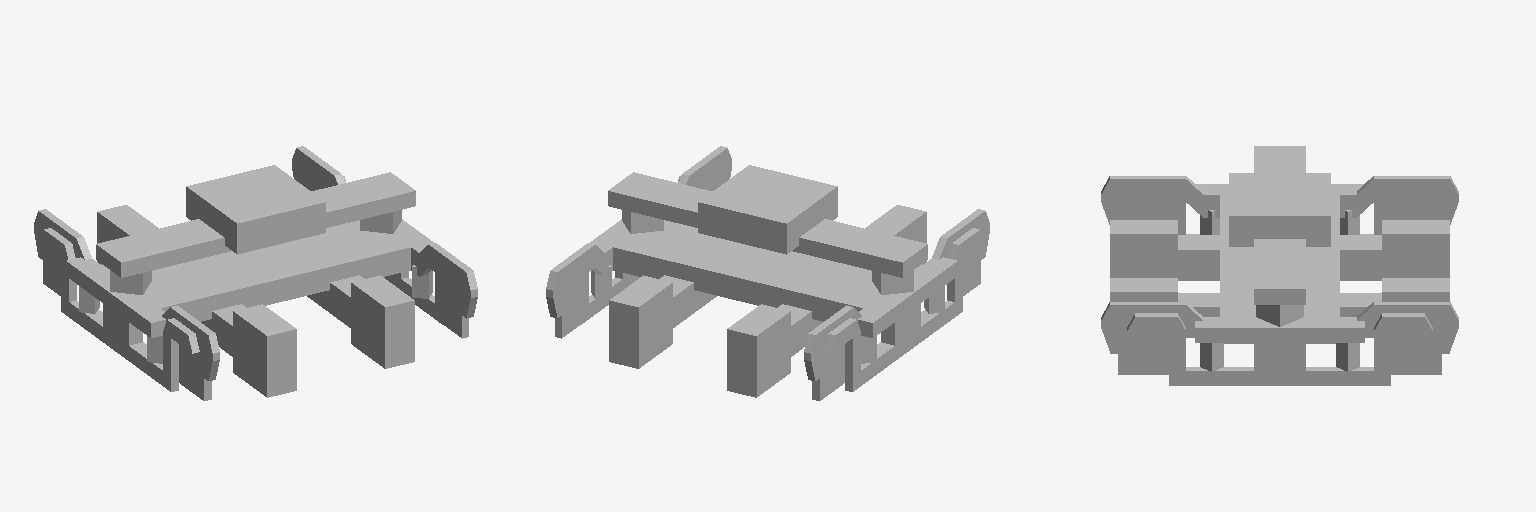
Rendered from passenger_frame.obj.
The picture shows the model from 3 angles: view 1: azimuth 30°, elevation 25°; view 2: azimuth 150°, elevation 25°; view 3: azimuth 270°, elevation 25°; orthographic projection.
Visible parts, largest first — view 1: cube2, cube3, cube1, cube13, cube32, cube11, cube37, cube6, cube9, cube20, cube16, cube23 (+14 smaller); view 2: cube2, cube3, cube1, cube20, cube31, cube11, cube23, cube6, cube16, cube13, cube9, cube37 (+14 smaller); view 3: cube3, cube2, cube1, cube13, cube20, cube14, cube29, cube9, cube16, cube27, cube23, cube37 (+15 smaller).
Boxes of the visible parts, x1,y1,x2,y2 form: cube2: [102, 220, 410, 321]; cube3: [186, 165, 325, 254]; cube1: [96, 172, 415, 277]; cube13: [233, 304, 296, 397]; cube32: [351, 275, 414, 368]; cube11: [66, 257, 165, 337]; cube37: [394, 229, 477, 318]; cube6: [69, 300, 162, 385]; cube9: [132, 294, 219, 380]; cube20: [97, 205, 158, 264]; cube16: [34, 209, 109, 277]; cube23: [292, 146, 344, 188]; cube2: [613, 220, 921, 321]; cube3: [698, 165, 837, 254]; cube1: [608, 172, 927, 277]; cube20: [727, 304, 790, 397]; cube31: [609, 275, 672, 368]; cube11: [858, 257, 957, 337]; cube23: [546, 229, 629, 318]; cube6: [861, 300, 954, 385]; cube16: [804, 294, 891, 380]; cube13: [865, 205, 926, 264]; cube9: [914, 209, 989, 277]; cube37: [679, 146, 731, 188]; cube3: [1229, 173, 1330, 246]; cube2: [1220, 195, 1339, 316]; cube1: [1254, 146, 1305, 304]; cube13: [1110, 220, 1177, 277]; cube20: [1382, 220, 1449, 277]; cube14: [1178, 235, 1381, 280]; cube29: [1195, 321, 1364, 342]; cube9: [1101, 176, 1228, 224]; cube16: [1331, 176, 1458, 224]; cube27: [1186, 367, 1373, 385]; cube23: [1296, 302, 1458, 351]; cube37: [1101, 302, 1263, 351].
Bounding box in the file's own units: 2.5 × 1 × 2.62.